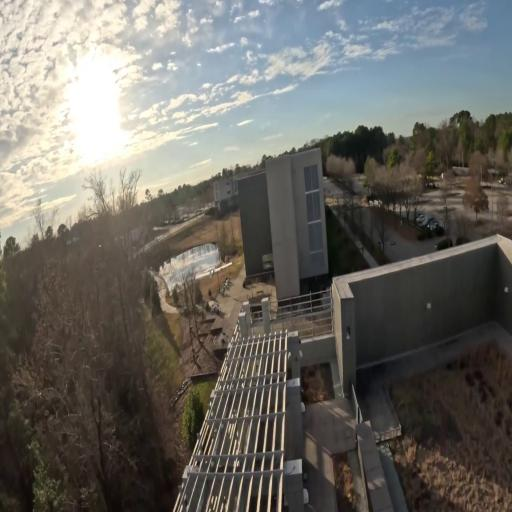uav: (195, 260, 233, 280)
